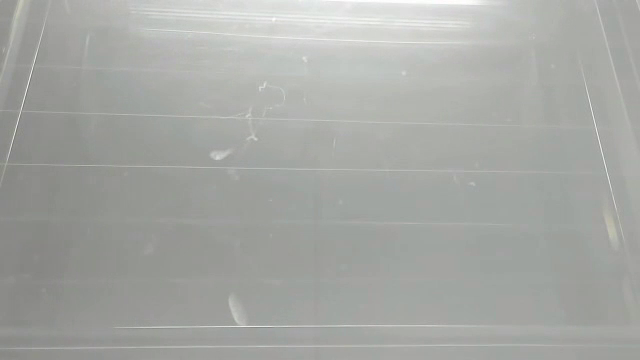alpha: (223, 289, 251, 333), (204, 143, 236, 165)
